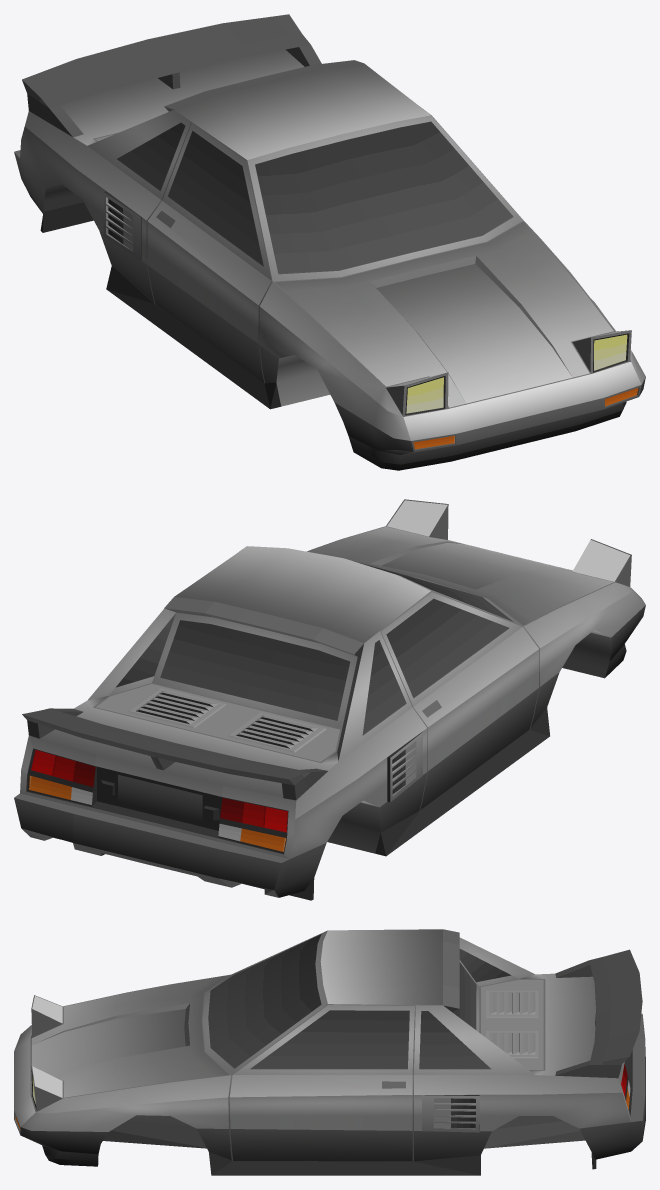
3 views of the same model, one above another, from view 1: azimuth 30°, elevation 25°; view 2: azimuth 150°, elevation 25°; view 3: azimuth 270°, elevation 25° (orthographic). The views are drawn at different scales.
Parts seen in each view (by area): view 1: body; view 2: body; view 3: body.
Part boxes in pixels (box(x1,y1,x2,y2)): body: box(14, 14, 645, 470); body: box(14, 499, 645, 900); body: box(14, 929, 645, 1175).
Size of the model in its own units: 78.75 by 50.54 by 183.
